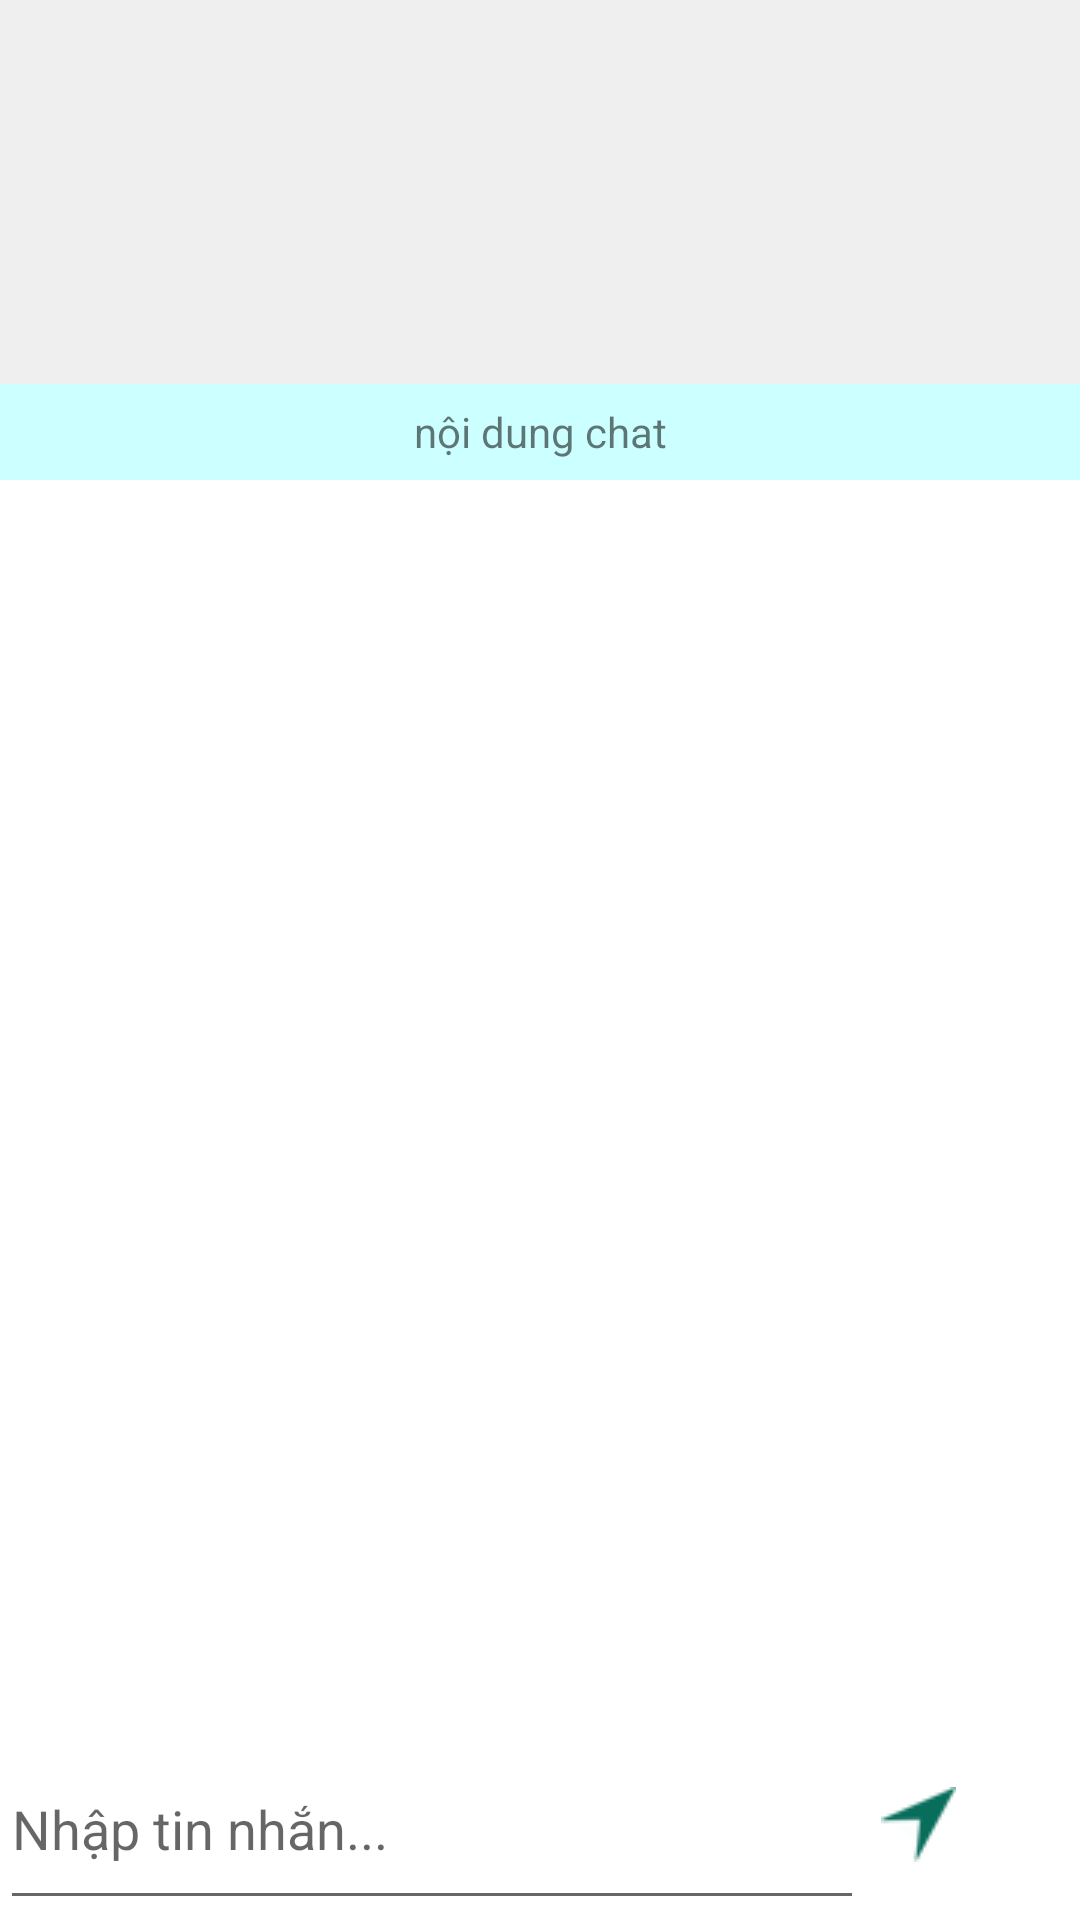

Icon click points for this 1080 x 1920 phone screenshot, format point (x, y):
send: point (918, 1824)
